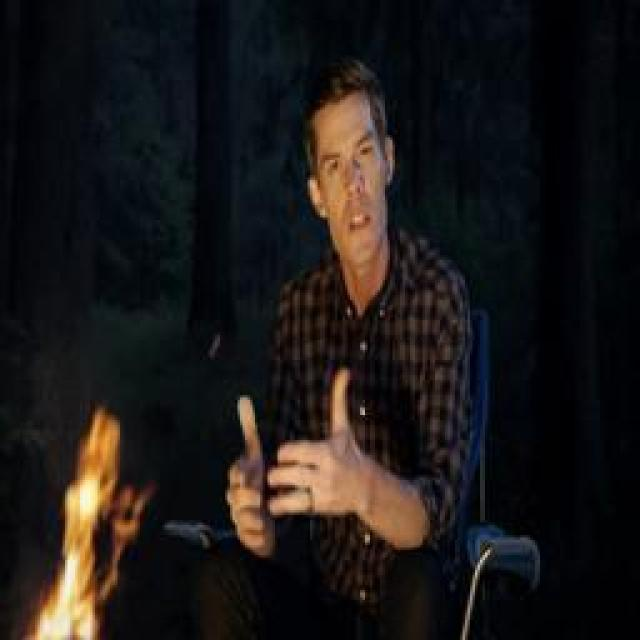Fire: (30, 407, 147, 640)
